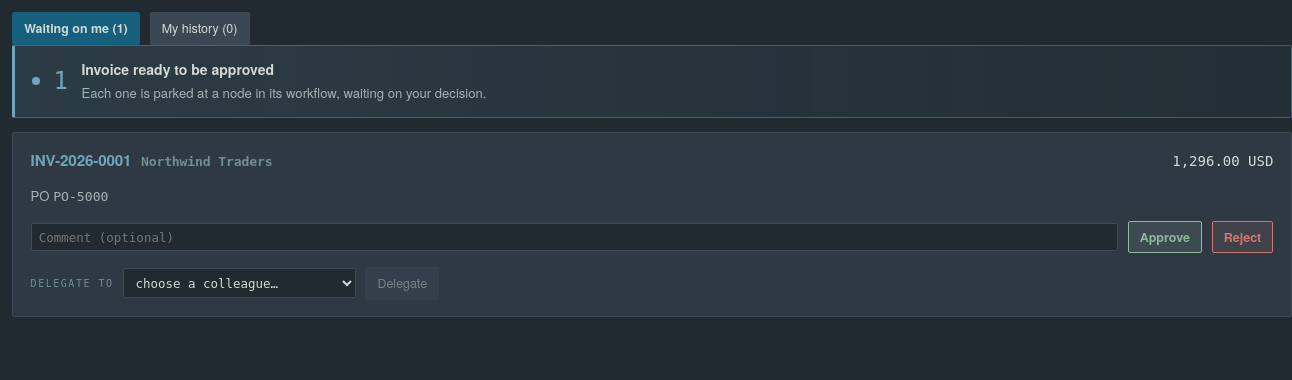
it: deciding a step › confirms with the invoice it acted on
What coordinates should you click on to do the following:
click the button "Approve"
I would click on:
 (1165, 237)
Its box is [1128,221,1202,254].
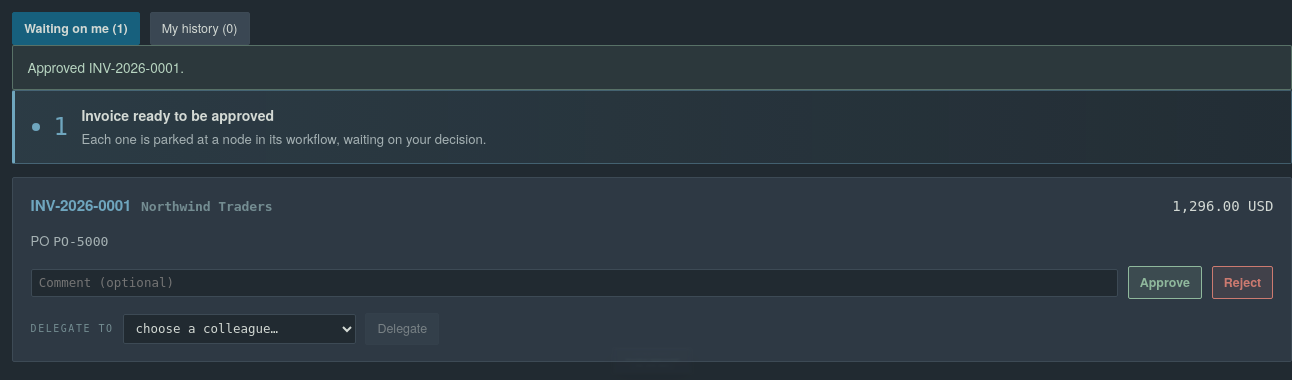
Expected: the text "Invoice approved" is shown, [614,353,691,364]
Expected: the text "Approved INV-2026-0001." is shown, [12,44,1291,90]
